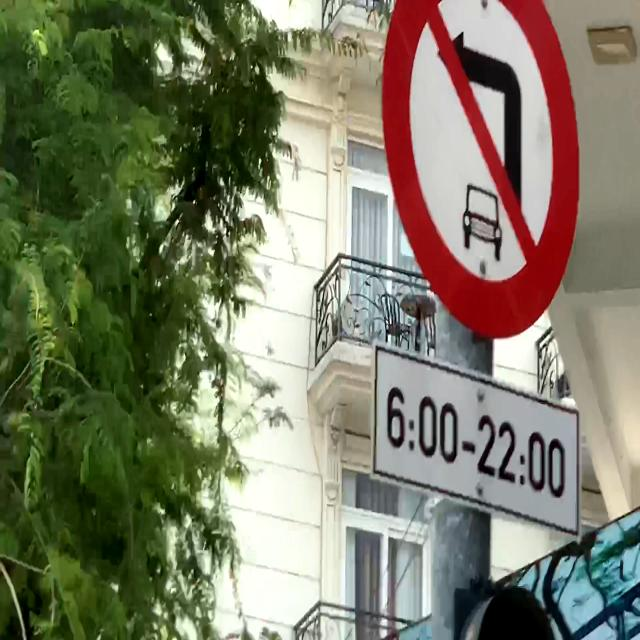P.103c: (380, 0, 582, 344)
